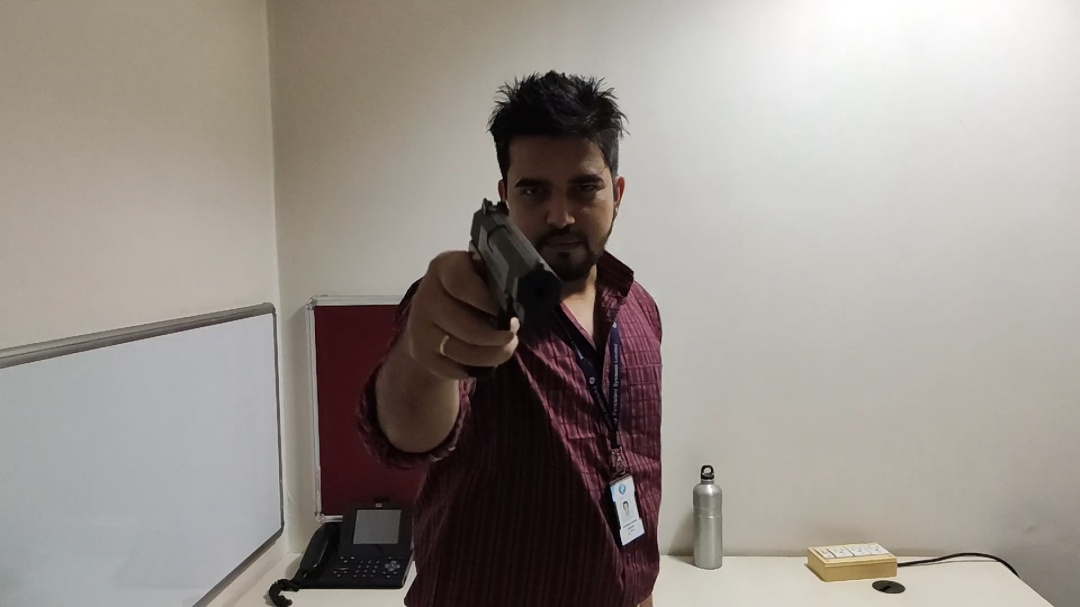gun: (455, 194, 566, 384)
